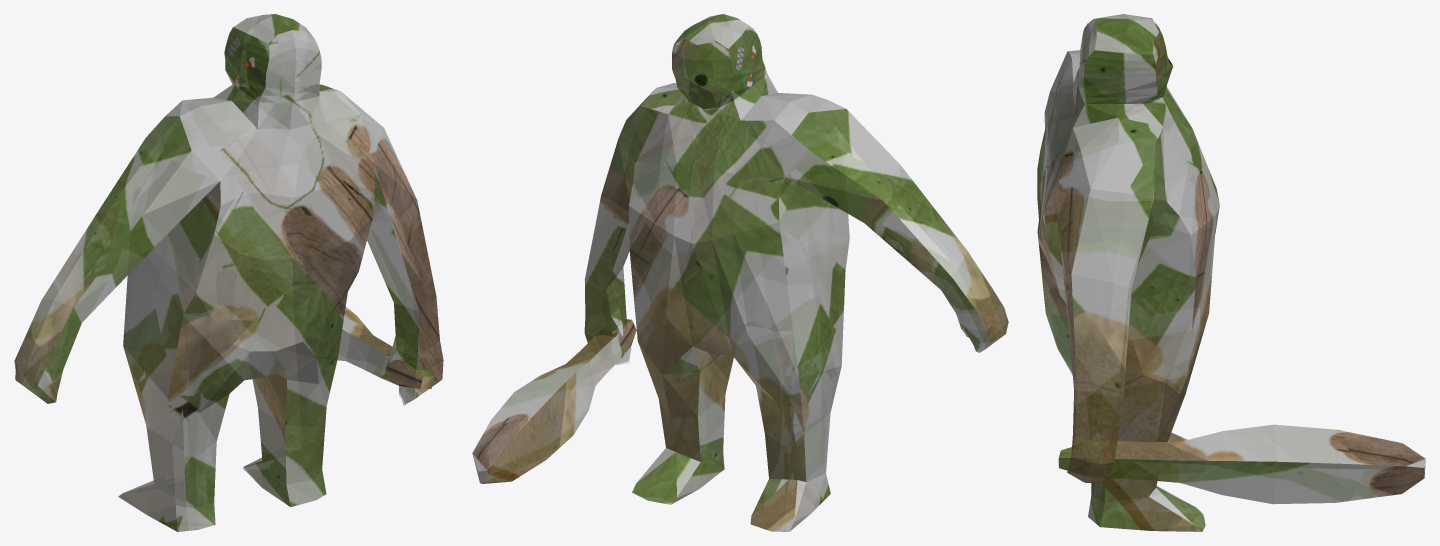
Rendered from Enemigo211.obj.
The picture shows the model from 3 angles, left to right: view 1: azimuth 30°, elevation 25°; view 2: azimuth 150°, elevation 25°; view 3: azimuth 270°, elevation 25°; orthographic projection. The views are drawn at different scales.
Parts seen in each view (by area): view 1: Cube; view 2: Cube; view 3: Cube.
Boxes of the visible parts, <box> form: Cube: <box>14,14,443,531</box>; Cube: <box>472,14,1008,531</box>; Cube: <box>1037,14,1425,531</box>.
Size of the model in its own units: 2.48 by 2.69 by 1.91.
1 material, 1 textured.
